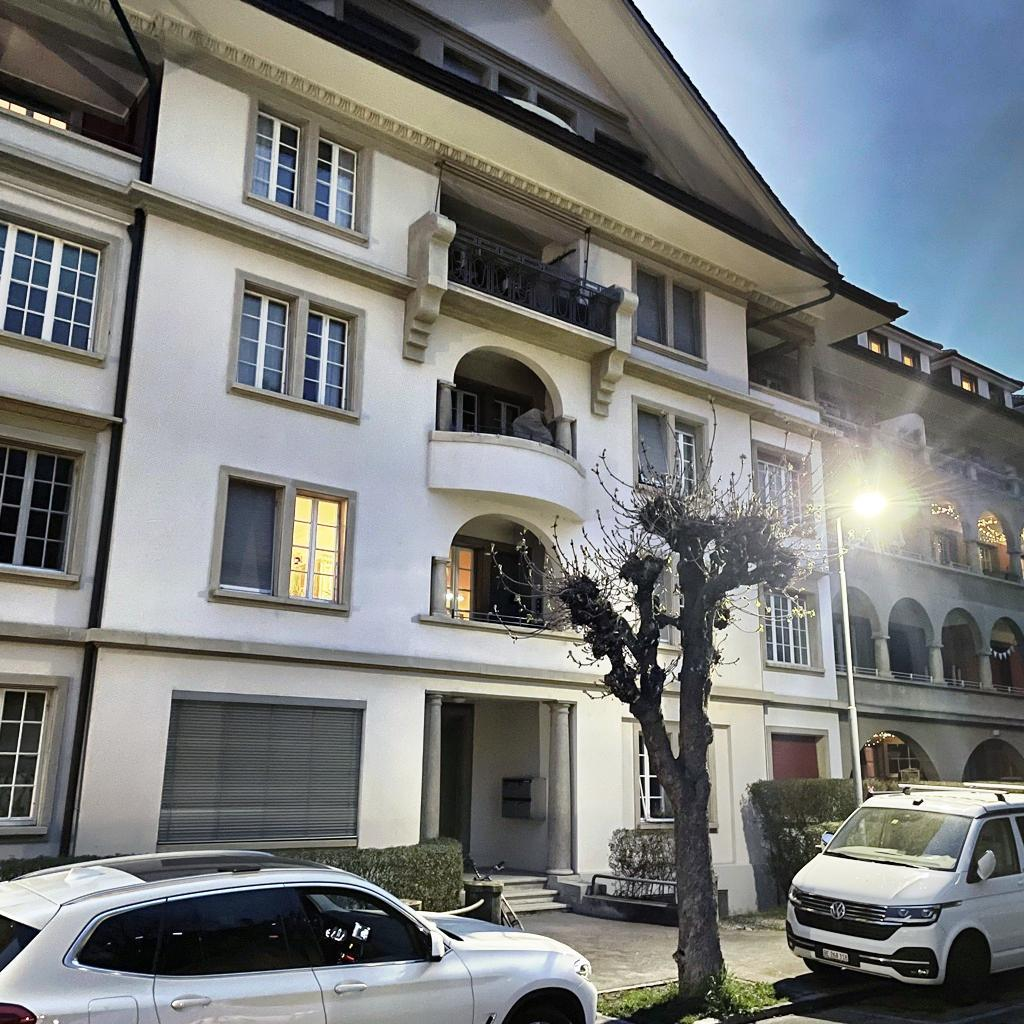balcony-fence: (447, 227, 623, 340), (858, 541, 1024, 585), (835, 663, 1024, 694), (434, 424, 572, 457), (429, 605, 549, 629)
car: (0, 848, 599, 1024), (784, 781, 1024, 1007)
facade: (0, 0, 1024, 919)
street: (523, 912, 1024, 1024)
traffic-infrastructure: (836, 490, 889, 801)
vegetation: (483, 392, 872, 1024), (268, 835, 464, 911), (747, 777, 857, 895), (0, 854, 105, 880), (862, 777, 963, 796)
window: (155, 689, 367, 852), (204, 463, 359, 621), (224, 265, 368, 426), (240, 84, 375, 250), (0, 198, 125, 371), (0, 423, 99, 593), (0, 671, 72, 836), (632, 723, 720, 829), (631, 252, 708, 372), (631, 393, 711, 507), (751, 438, 817, 540), (342, 0, 425, 59), (0, 87, 84, 135), (763, 591, 812, 667), (765, 725, 832, 778), (489, 550, 521, 626), (445, 545, 475, 620), (442, 49, 487, 89), (883, 738, 925, 776), (537, 94, 574, 130), (450, 387, 478, 433), (493, 399, 521, 436), (497, 73, 529, 102), (867, 329, 889, 357), (935, 533, 952, 566), (901, 343, 921, 370), (758, 373, 786, 392), (960, 369, 979, 395), (988, 381, 1005, 406), (979, 545, 992, 576)
